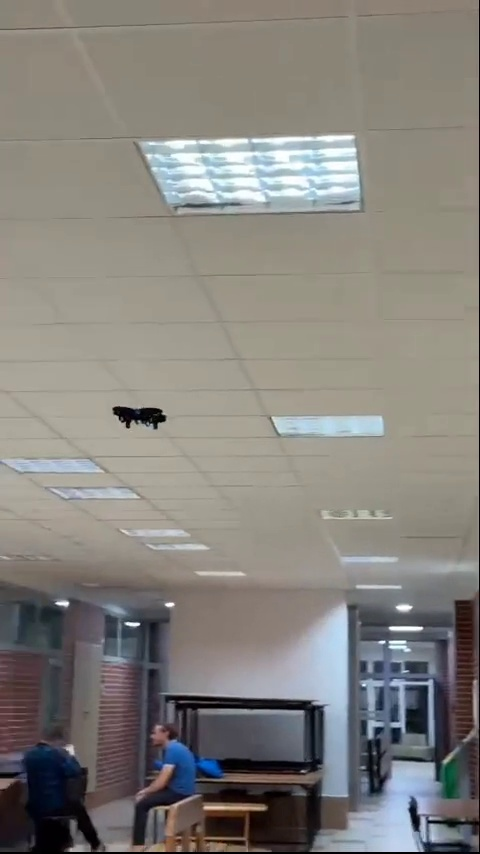drone: (107, 405, 167, 428)
no vest: (26, 721, 106, 844), (133, 720, 207, 799)
